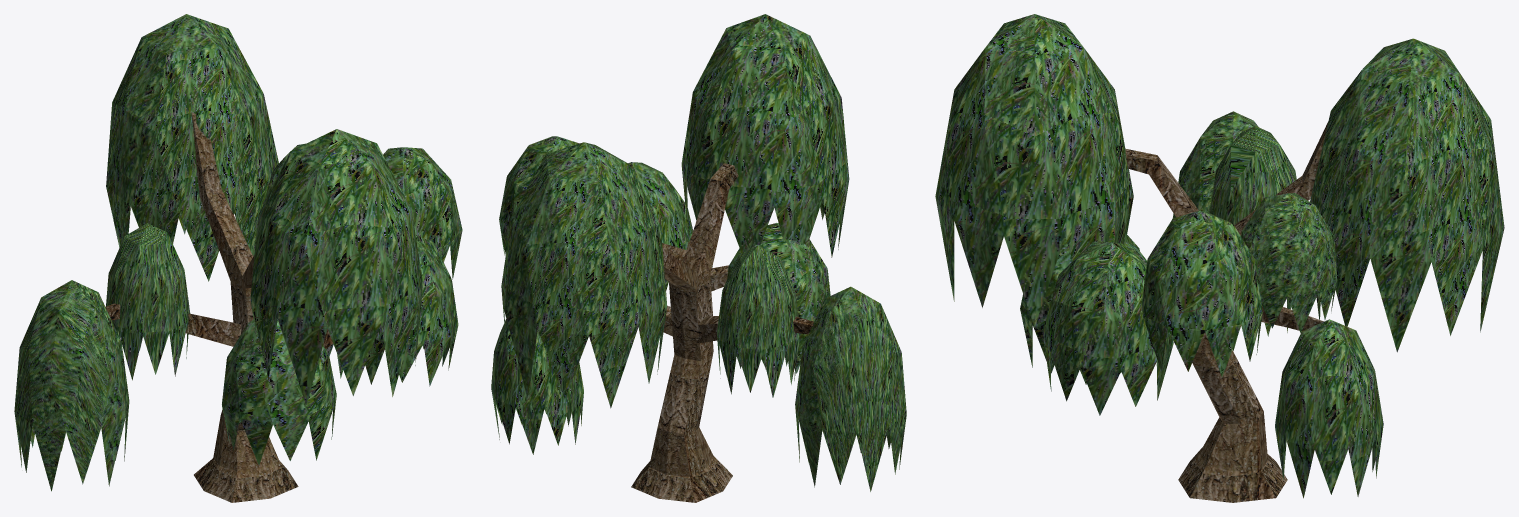
File: Low Poly Willow 1.fbx
The picture shows the model from 3 angles, left to right: view 1: azimuth 30°, elevation 25°; view 2: azimuth 150°, elevation 25°; view 3: azimuth 270°, elevation 25°; orthographic projection. The views are drawn at different scales.
Visible parts, largest first — view 1: Icosphere.001, Icosphere.008, Icosphere.009, Trunk, Icosphere.010, Icosphere.018, Icosphere.012, Icosphere, Icosphere.003, Icosphere.007, Icosphere.004, Icosphere.013 (+3 smaller); view 2: Icosphere.007, Icosphere.001, Trunk, Icosphere.009, Icosphere.012, Icosphere.008, Icosphere.006, Icosphere, Icosphere.002, Icosphere.015, Icosphere.013, Icosphere.017 (+3 smaller); view 3: Icosphere.001, Icosphere.007, Icosphere.008, Icosphere.004, Icosphere.003, Icosphere.006, Trunk, Icosphere.005, Icosphere.012, Icosphere.015, Icosphere.010, Icosphere (+5 smaller).
Boxes of the visible parts, <box> form: Icosphere.001: <box>250,129,423,404</box>; Icosphere.008: <box>106,14,278,281</box>; Icosphere.009: <box>14,280,125,491</box>; Trunk: <box>105,112,333,502</box>; Icosphere.010: <box>251,185,422,403</box>; Icosphere.018: <box>222,319,336,465</box>; Icosphere.012: <box>106,223,187,380</box>; Icosphere: <box>14,280,129,485</box>; Icosphere.003: <box>401,235,458,377</box>; Icosphere.007: <box>106,14,262,244</box>; Icosphere.004: <box>403,147,462,279</box>; Icosphere.013: <box>383,147,437,238</box>; Icosphere.007: <box>501,142,667,408</box>; Icosphere.001: <box>681,14,849,267</box>; Trunk: <box>631,163,813,502</box>; Icosphere.009: <box>798,287,906,491</box>; Icosphere.012: <box>719,245,799,397</box>; Icosphere.008: <box>546,142,667,391</box>; Icosphere.006: <box>491,319,583,454</box>; Icosphere: <box>795,286,906,469</box>; Icosphere.002: <box>727,223,828,372</box>; Icosphere.015: <box>632,163,693,290</box>; Icosphere.013: <box>499,136,579,255</box>; Icosphere.017: <box>716,291,799,394</box>; Icosphere.001: <box>936,14,1133,327</box>; Icosphere.007: <box>1330,38,1504,352</box>; Icosphere.008: <box>1310,38,1485,351</box>; Icosphere.004: <box>1141,210,1262,377</box>; Icosphere.003: <box>1042,241,1172,415</box>; Icosphere.006: <box>1275,319,1383,496</box>; Trunk: <box>1125,122,1328,502</box>; Icosphere.005: <box>1241,193,1337,333</box>; Icosphere.012: <box>1209,126,1296,218</box>; Icosphere.015: <box>1059,255,1173,415</box>; Icosphere.010: <box>935,93,1062,307</box>; Icosphere: <box>1173,111,1290,350</box>.
Bounding box in the file's own units: 3057 × 2909 × 3211.
2 materials, 2 textured.
